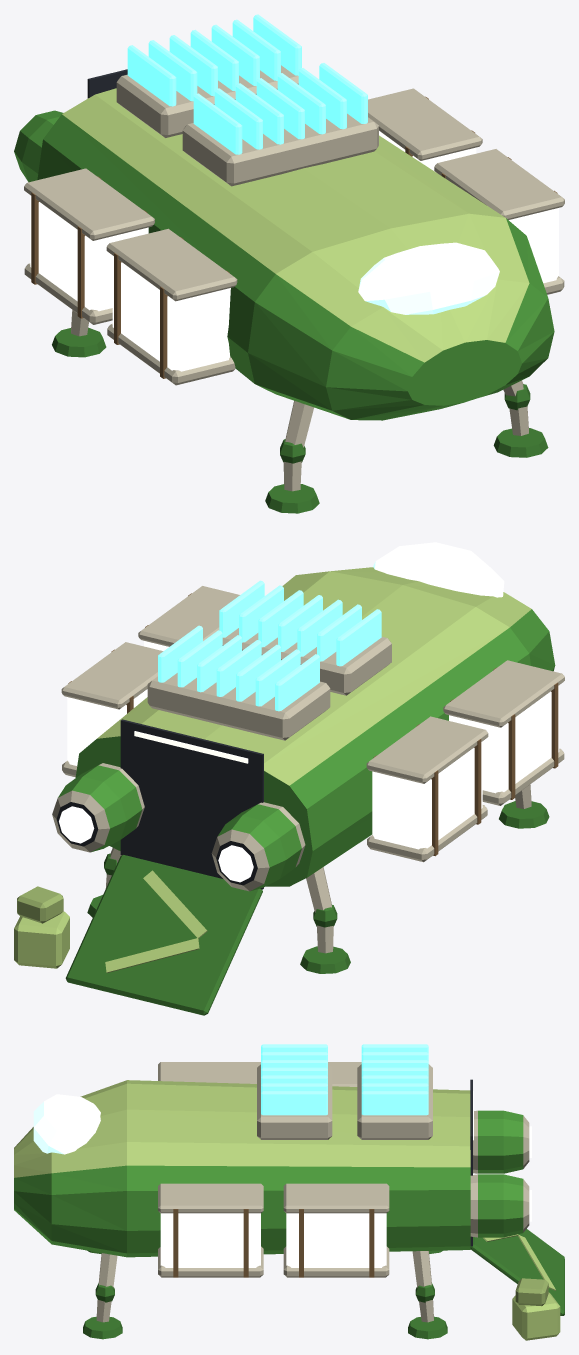
The model's file is ver-f_offen.glb.
The picture shows the model from 3 angles, top to bottom: view 1: azimuth 30°, elevation 25°; view 2: azimuth 150°, elevation 25°; view 3: azimuth 270°, elevation 25°; orthographic projection. The views are drawn at different scales.
Parts seen in each view (by area): view 1: rumpf, kühlmodule, pflanzenbehälter_3, pflanzenbehälter_4, cockpit, pflanzenbehälter_1, pflanzenbehälter_2, landebein_2, landebein_1, triebwerk_r, landebein_4, spanngurt_4 (+2 smaller); view 2: rumpf, kühlmodule, rampe, laderaum, pflanzenbehälter_4, pflanzenbehälter_3, pflanzenbehälter_2, triebwerk_r, triebwerk_l, cockpit, ladung, pflanzenbehälter_1 (+4 smaller); view 3: rumpf, kühlmodule, pflanzenbehälter_1, pflanzenbehälter_2, triebwerk_l, rampe, triebwerk_r, cockpit, ladung, pflanzenbehälter_3, landebein_3, landebein_1 (+3 smaller).
Boxes of the visible parts, x1=… form: rumpf: x1=37, y1=88, x2=554, y2=420; kühlmodule: x1=116, y1=14, x2=378, y2=186; pflanzenbehälter_3: x1=106, y1=228, x2=237, y2=385; pflanzenbehälter_4: x1=24, y1=168, x2=154, y2=324; cockpit: x1=358, y1=242, x2=499, y2=314; pflanzenbehälter_1: x1=434, y1=149, x2=564, y2=294; pflanzenbehälter_2: x1=368, y1=88, x2=482, y2=171; landebein_2: x1=265, y1=400, x2=319, y2=513; landebein_1: x1=493, y1=380, x2=548, y2=457; triebwerk_r: x1=14, y1=110, x2=63, y2=182; landebein_4: x1=52, y1=310, x2=106, y2=357; spanngurt_4: x1=31, y1=176, x2=147, y2=318; rumpf: x1=75, y1=567, x2=555, y2=886; kühlmodule: x1=147, y1=580, x2=391, y2=740; rampe: x1=65, y1=855, x2=262, y2=1015; laderaum: x1=120, y1=719, x2=263, y2=889; pflanzenbehälter_4: x1=366, y1=716, x2=488, y2=862; pflanzenbehälter_3: x1=443, y1=660, x2=564, y2=805; pflanzenbehälter_2: x1=61, y1=642, x2=163, y2=777; triebwerk_r: x1=211, y1=802, x2=305, y2=891; triebwerk_l: x1=52, y1=763, x2=144, y2=852; cockpit: x1=373, y1=542, x2=504, y2=597; ladung: x1=14, y1=886, x2=69, y2=968; pflanzenbehälter_1: x1=138, y1=586, x2=239, y2=650; rumpf: x1=14, y1=1080, x2=470, y2=1257; kühlmodule: x1=257, y1=1044, x2=432, y2=1139; pflanzenbehälter_1: x1=158, y1=1183, x2=263, y2=1277; pflanzenbehälter_2: x1=283, y1=1183, x2=389, y2=1277; triebwerk_l: x1=470, y1=1174, x2=531, y2=1237; rampe: x1=470, y1=1229, x2=564, y2=1315; triebwerk_r: x1=473, y1=1110, x2=531, y2=1173; cockpit: x1=33, y1=1094, x2=100, y2=1154; ladung: x1=512, y1=1278, x2=560, y2=1340; pflanzenbehälter_3: x1=158, y1=1062, x2=260, y2=1083; landebein_3: x1=408, y1=1251, x2=447, y2=1339; landebein_1: x1=83, y1=1253, x2=122, y2=1339.
Bounding box in the file's own units: 0.1035 × 0.0727 × 0.1644.
